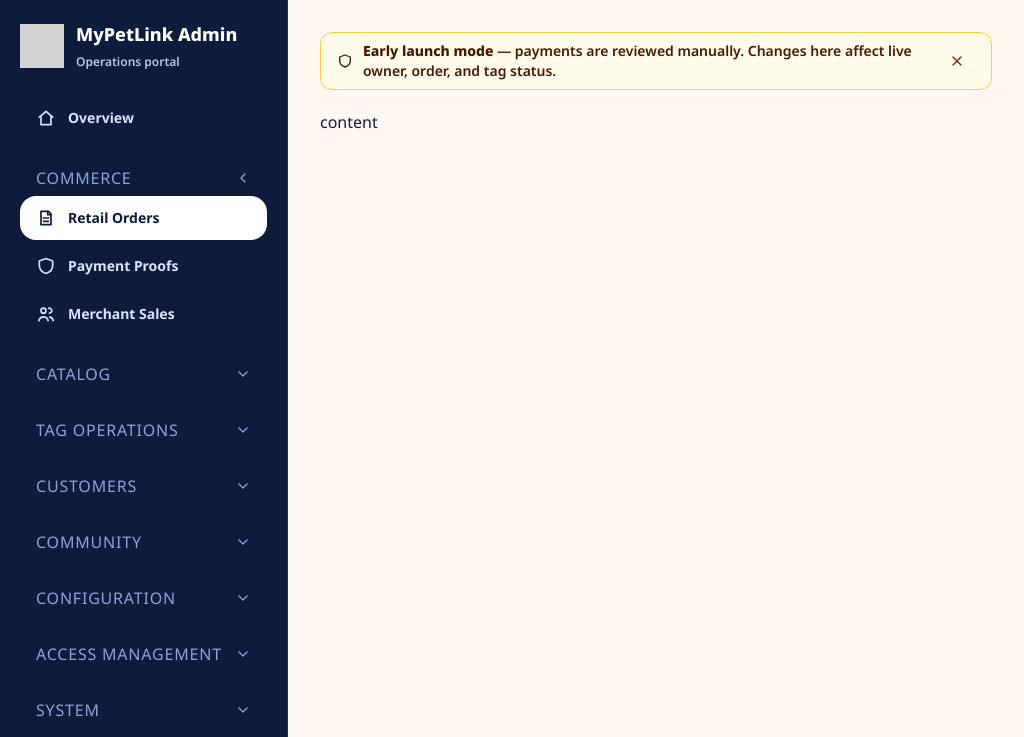
Test case: collapsible sidebar sections › expands and collapses a section on click and records aria-expanded
Click the button "Catalog" at point(144, 374), box left=20, top=356, right=267, bottom=392
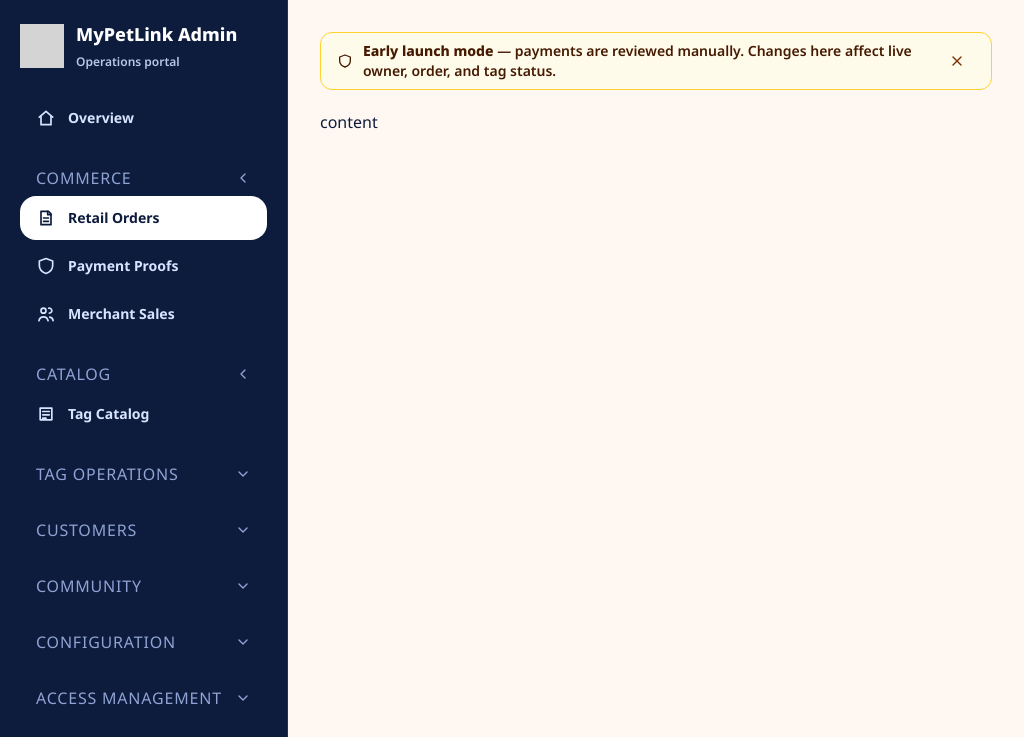
Expected: the button "Catalog" is expanded
Expected: the link "Tag Catalog" is shown, left=36, top=404, right=150, bottom=424
Click the button "Catalog" at point(144, 374), box left=20, top=356, right=267, bottom=392
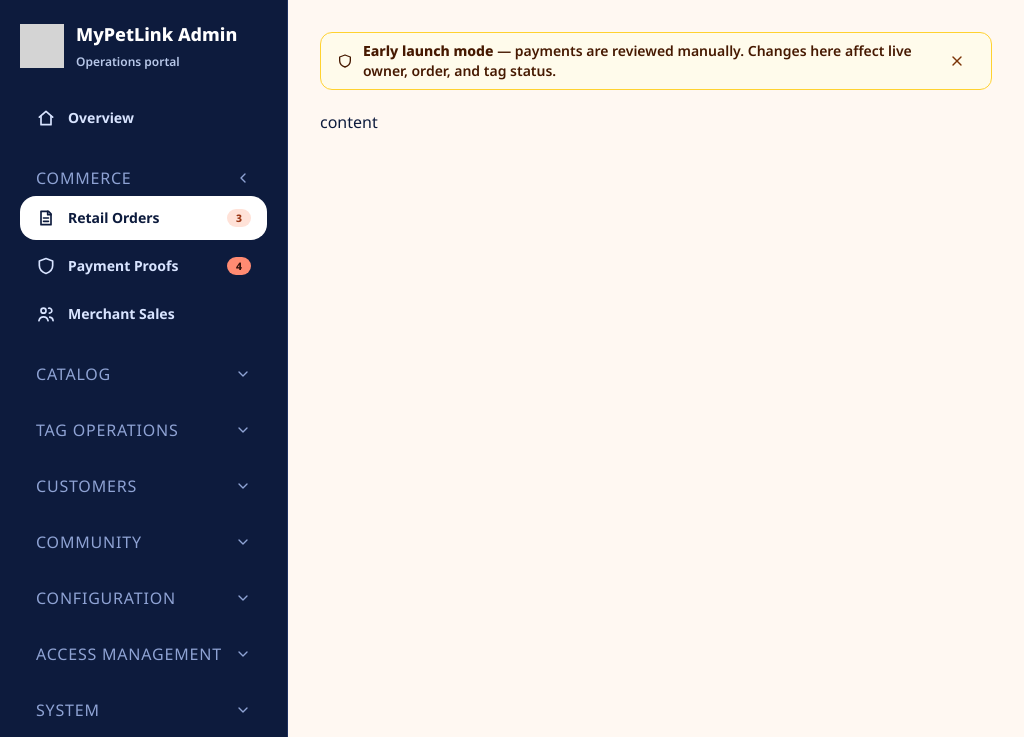
Expected: the button "Catalog" is collapsed, left=20, top=356, right=267, bottom=392
